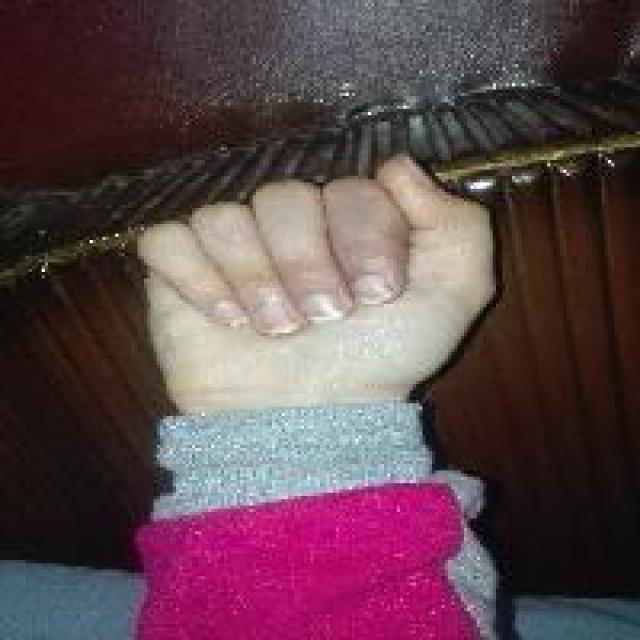A: (131, 146, 506, 392)
